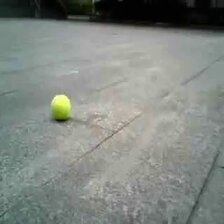tennis: (51, 95, 71, 118)
